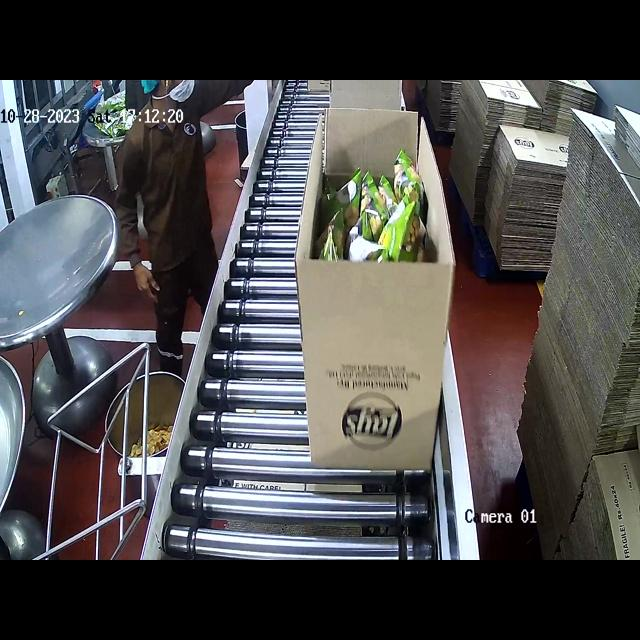yogurt: (324, 151, 424, 267)
